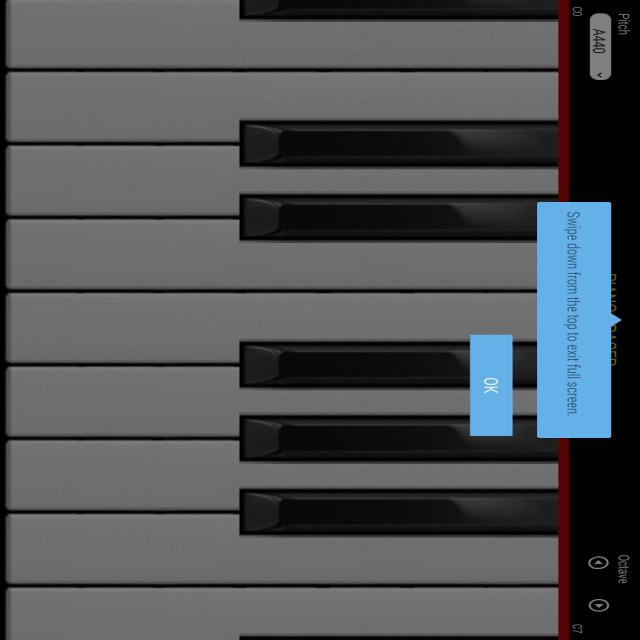button: (472, 337, 510, 437), (589, 14, 612, 82), (582, 553, 614, 574), (584, 596, 613, 616)
image: (0, 0, 640, 640)
text: (564, 210, 580, 420), (615, 554, 633, 587), (614, 10, 634, 39)
